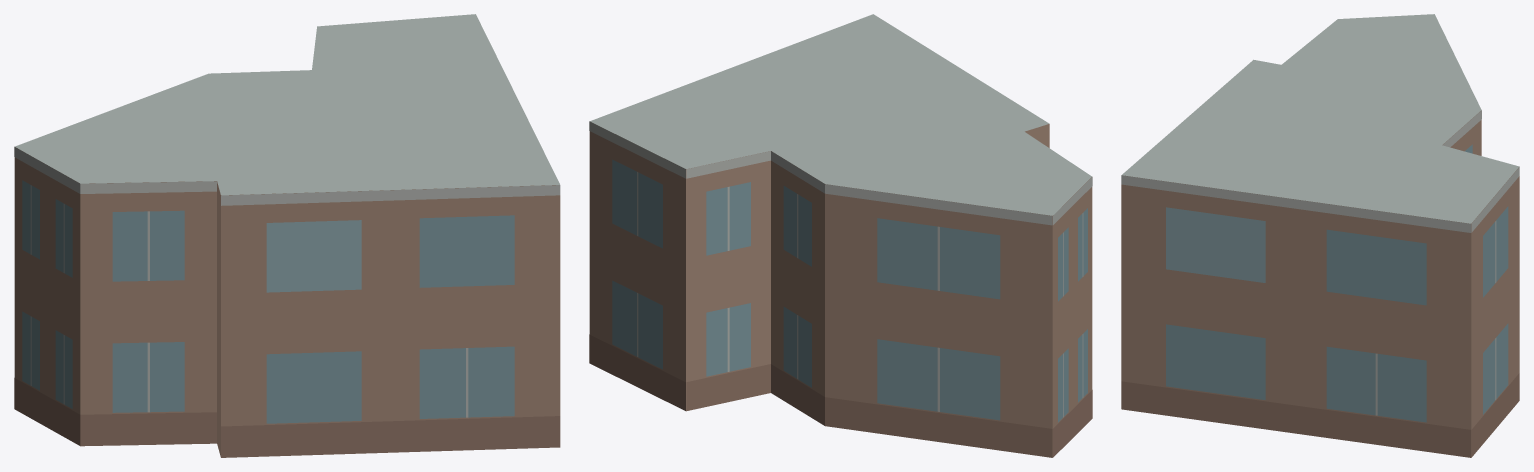
The model's file is survey-upis-32976717.glb.
3 views of the same model, side by side, from view 1: azimuth 30°, elevation 25°; view 2: azimuth 150°, elevation 25°; view 3: azimuth 270°, elevation 25° (orthographic). The views are drawn at different scales.
Visible parts, largest first — view 1: survey-upis-32976717.tmp; view 2: survey-upis-32976717.tmp; view 3: survey-upis-32976717.tmp.
Part boxes in pixels (box(x1,y1,x2,y2)): survey-upis-32976717.tmp: box(14, 14, 560, 457); survey-upis-32976717.tmp: box(589, 14, 1092, 457); survey-upis-32976717.tmp: box(1121, 14, 1519, 457).
Size of the model in its own units: 11.73 by 6.1 by 9.41.
